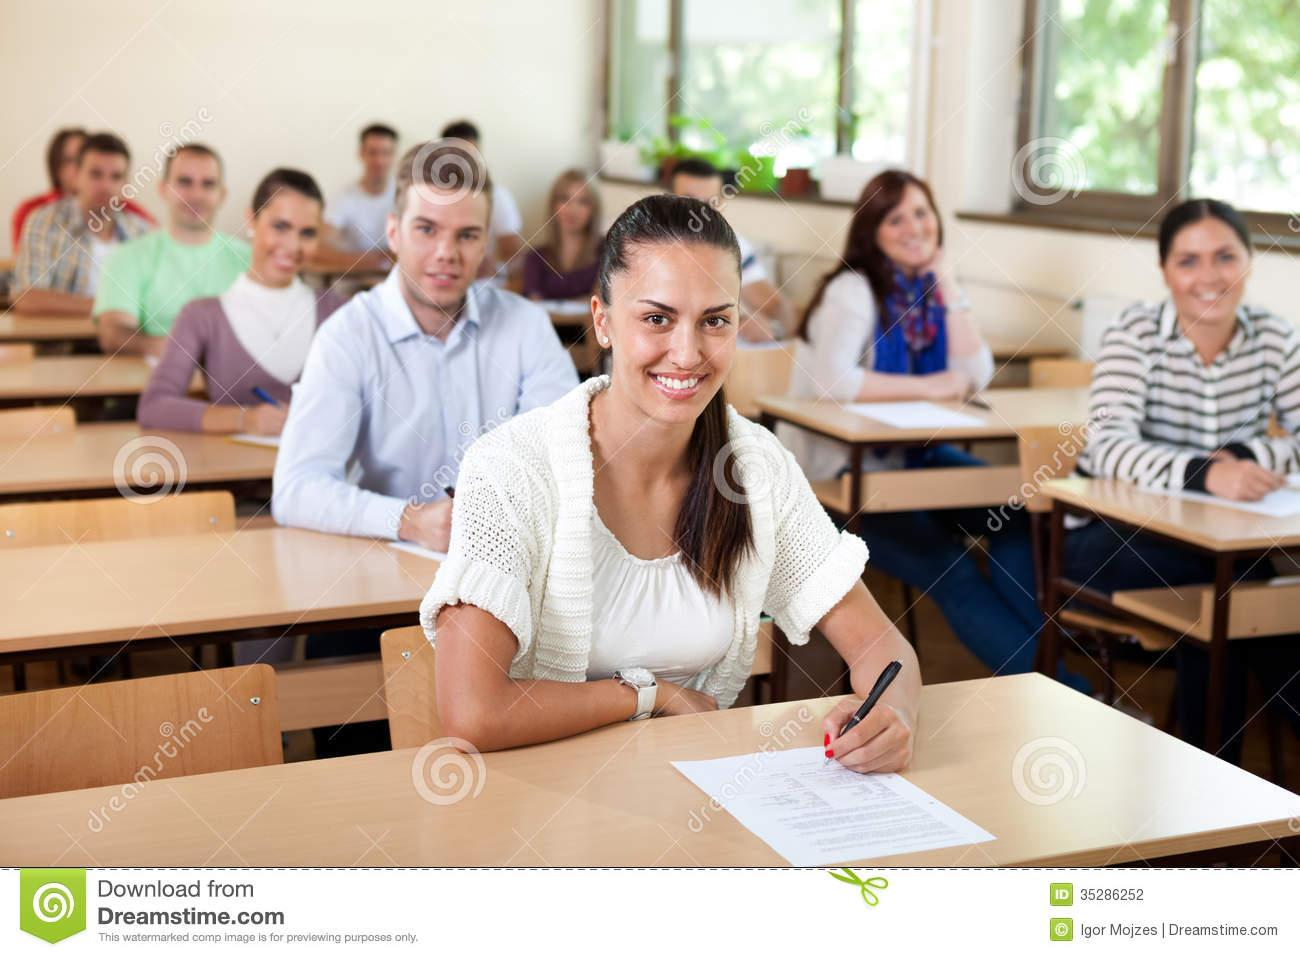student: (426, 218, 1065, 868), (310, 155, 580, 560), (783, 125, 1070, 442), (1085, 181, 1291, 528), (152, 156, 360, 455), (120, 108, 239, 381), (40, 114, 152, 324)
